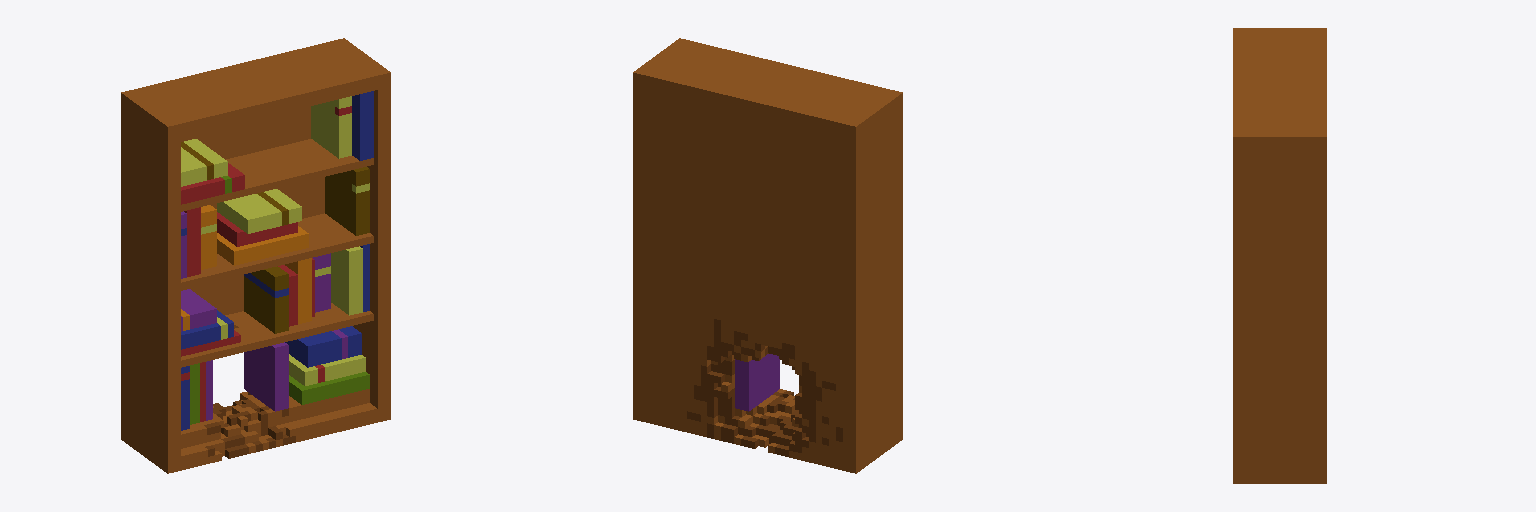
The picture shows the model from 3 angles: view 1: azimuth 30°, elevation 25°; view 2: azimuth 150°, elevation 25°; view 3: azimuth 270°, elevation 25°; orthographic projection.
Parts seen in each view (by area): view 1: object 1; view 2: object 1; view 3: object 1.
Part boxes in pixels (x1,y1,x2,y2): object 1: (121, 38, 390, 473); object 1: (633, 38, 902, 473); object 1: (1233, 28, 1326, 483).
Size of the model in its own units: 3.3 by 4.9 by 1.2.
1 materials, 1 textured.